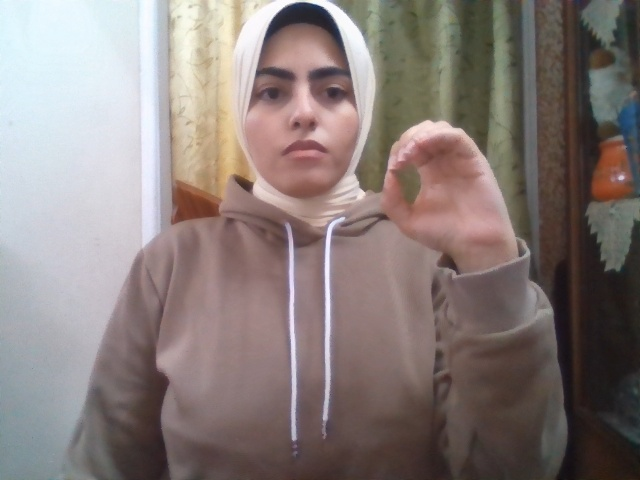O: (381, 120, 512, 255)
